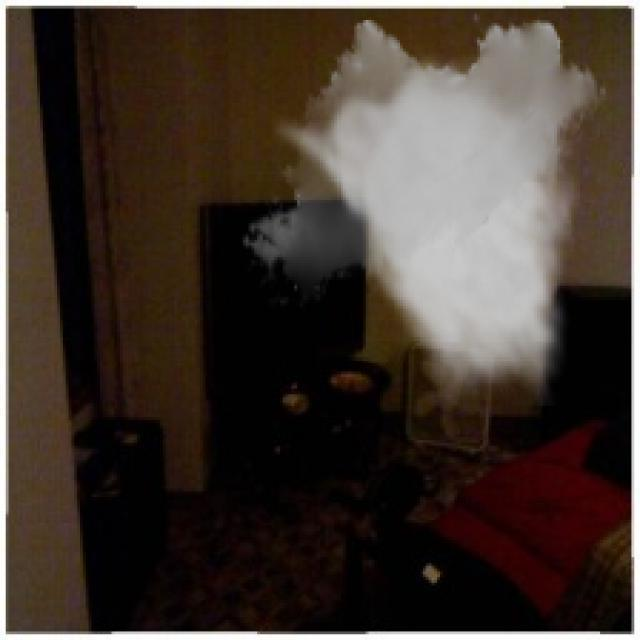Smoke: (240, 8, 609, 406)
